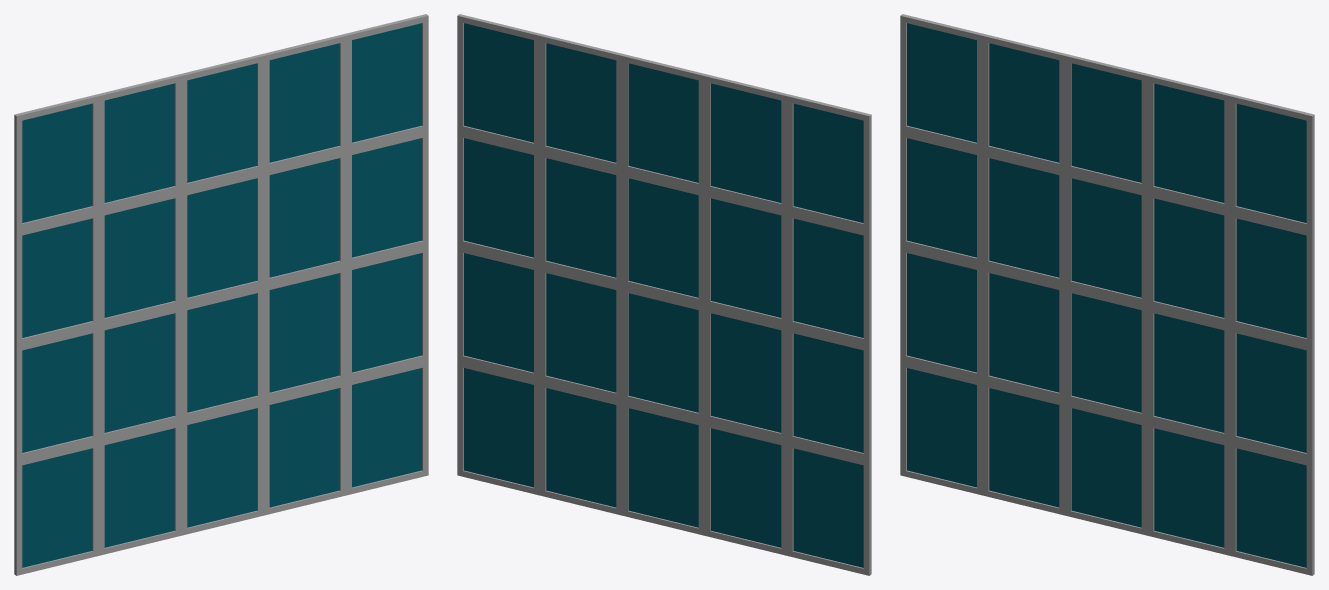
File: window_close 1.fbx
3 views of the same model, side by side, from view 1: azimuth 30°, elevation 25°; view 2: azimuth 150°, elevation 25°; view 3: azimuth 330°, elevation 25° (orthographic).
Visible parts, largest first — view 1: polySurface65, polySurface60, polySurface20, polySurface16, polySurface14, polySurface56, polySurface18, polySurface51, polySurface55, polySurface62, polySurface50, polySurface63 (+9 smaller); view 2: polySurface65, polySurface60, polySurface56, polySurface20, polySurface16, polySurface14, polySurface51, polySurface55, polySurface50, polySurface63, polySurface45, polySurface18 (+9 smaller); view 3: polySurface65, polySurface60, polySurface16, polySurface11, polySurface18, polySurface57, polySurface22, polySurface56, polySurface14, polySurface61, polySurface51, polySurface55 (+9 smaller).
Part boxes in pixels (x1,y1,x2,y2): polySurface65: (14, 14, 428, 575); polySurface60: (99, 151, 346, 440); polySurface20: (22, 448, 92, 567); polySurface16: (187, 408, 257, 527); polySurface14: (269, 388, 339, 507); polySurface56: (187, 63, 257, 182); polySurface18: (104, 428, 174, 547); polySurface51: (187, 293, 257, 412); polySurface55: (187, 178, 257, 297); polySurface62: (104, 83, 174, 202); polySurface50: (269, 43, 339, 162); polySurface63: (22, 333, 92, 452); polySurface65: (457, 14, 871, 575); polySurface60: (539, 151, 786, 440); polySurface56: (628, 63, 698, 182); polySurface20: (793, 448, 863, 567); polySurface16: (628, 408, 698, 527); polySurface14: (546, 388, 616, 507); polySurface51: (628, 293, 698, 412); polySurface55: (628, 178, 698, 297); polySurface50: (546, 43, 616, 162); polySurface63: (793, 333, 863, 452); polySurface45: (546, 273, 616, 392); polySurface18: (711, 428, 781, 547); polySurface65: (900, 14, 1314, 575); polySurface60: (982, 151, 1229, 440); polySurface16: (1071, 408, 1141, 527); polySurface11: (1236, 448, 1306, 567); polySurface18: (989, 388, 1059, 507); polySurface57: (989, 273, 1059, 392); polySurface22: (1236, 333, 1306, 452); polySurface56: (1071, 63, 1141, 182); polySurface14: (1154, 428, 1224, 547); polySurface61: (989, 158, 1059, 277); polySurface51: (1071, 293, 1141, 412); polySurface55: (1071, 178, 1141, 297).
Size of the model in its own units: 447 by 477 by 4.43.
